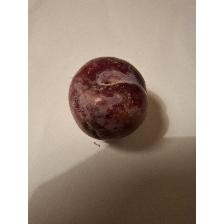Pflaume: (64, 51, 150, 141)
